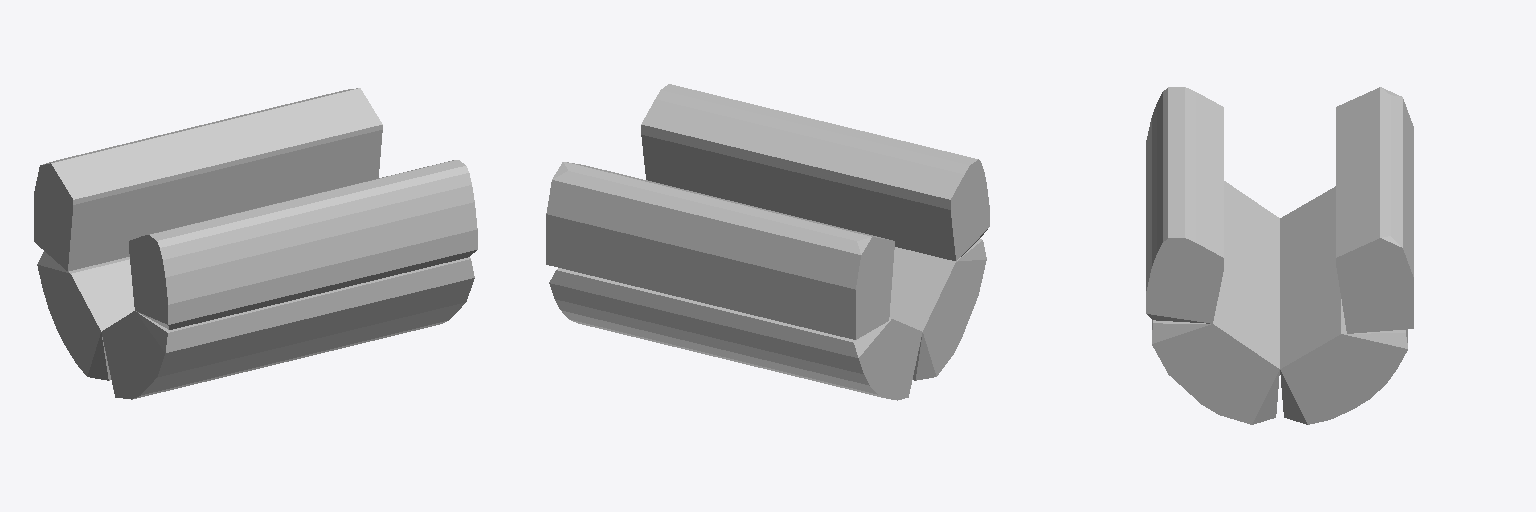
The model's file is celery_vhacd.obj.
The picture shows the model from 3 angles: view 1: azimuth 30°, elevation 25°; view 2: azimuth 150°, elevation 25°; view 3: azimuth 270°, elevation 25°; orthographic projection.
Visible parts, largest first — view 1: convex_1, convex_3, convex_2, convex_0; view 2: convex_1, convex_3, convex_0, convex_2; view 3: convex_1, convex_2, convex_3, convex_0.
Boxes of the visible parts, x1=… form: convex_1: x1=34, y1=88, x2=382, y2=271; convex_3: x1=129, y1=160, x2=477, y2=329; convex_2: x1=101, y1=257, x2=474, y2=399; convex_0: x1=37, y1=251, x2=134, y2=380; convex_1: x1=546, y1=162, x2=894, y2=339; convex_3: x1=641, y1=84, x2=989, y2=260; convex_0: x1=549, y1=268, x2=922, y2=400; convex_2: x1=889, y1=239, x2=986, y2=380; convex_1: x1=1336, y1=87, x2=1413, y2=333; convex_2: x1=1152, y1=181, x2=1279, y2=424; convex_3: x1=1146, y1=87, x2=1223, y2=323; convex_0: x1=1280, y1=186, x2=1407, y2=424.
Size of the model in its own units: 2.74 by 1.59 by 2.06.